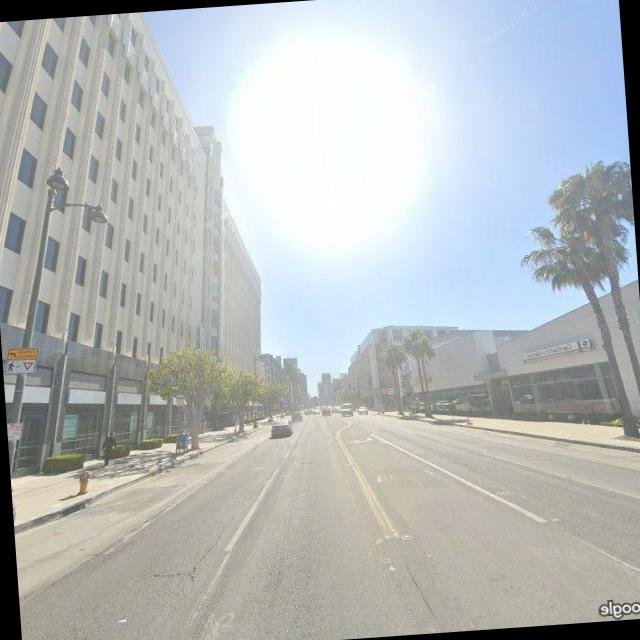crack: (180, 510, 242, 584), (403, 558, 441, 624), (143, 564, 194, 580)
